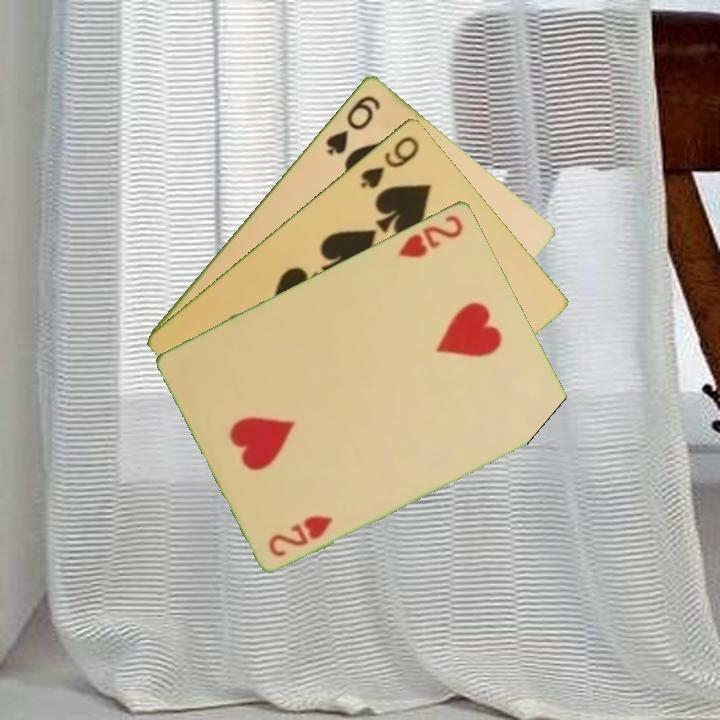2h: (395, 210, 466, 261), (265, 511, 335, 560)
6s: (322, 91, 384, 158)
9s: (356, 131, 422, 192)
